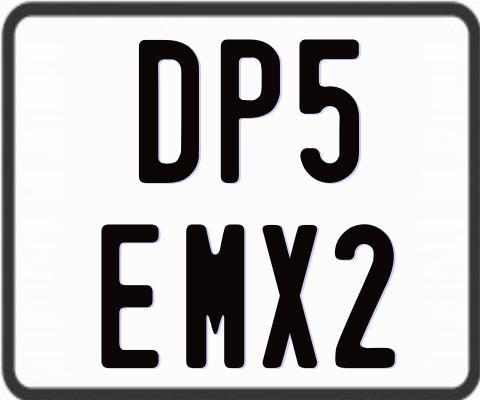2: (335, 224, 397, 372)
5: (297, 37, 357, 186)
D: (137, 37, 200, 186)
E: (101, 222, 161, 369)
M: (186, 224, 248, 370)
P: (218, 39, 278, 184)
X: (263, 222, 319, 367)
